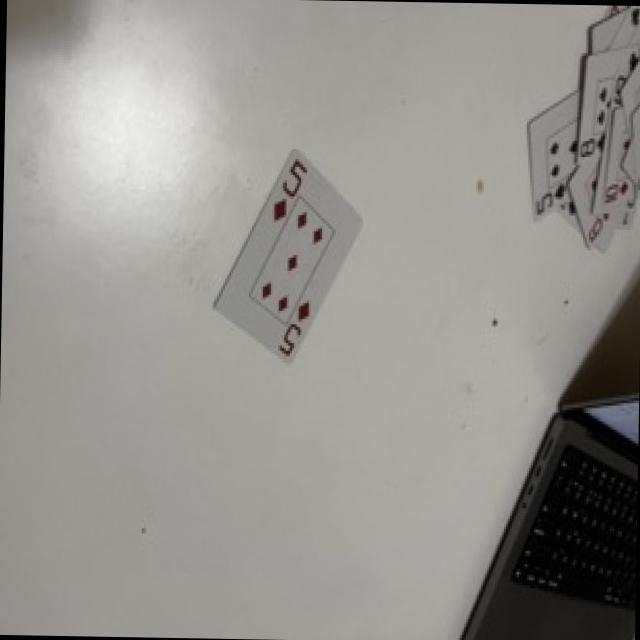5 of diamonds: (213, 149, 361, 360)
